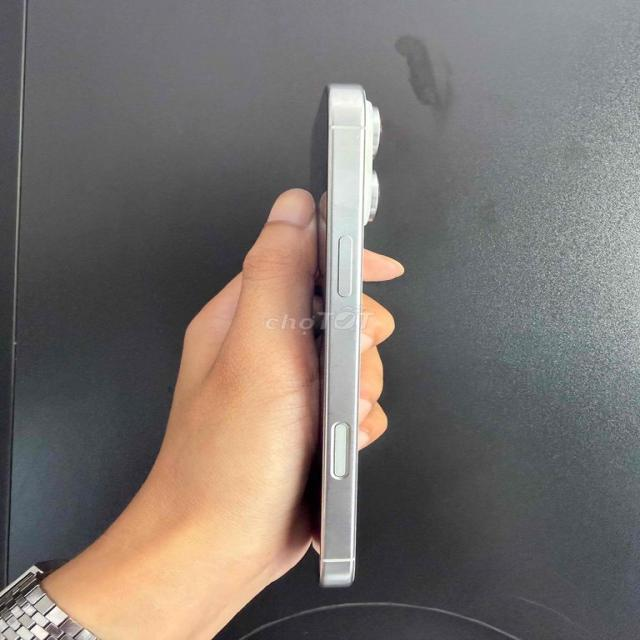gen_16: (309, 84, 380, 587)
